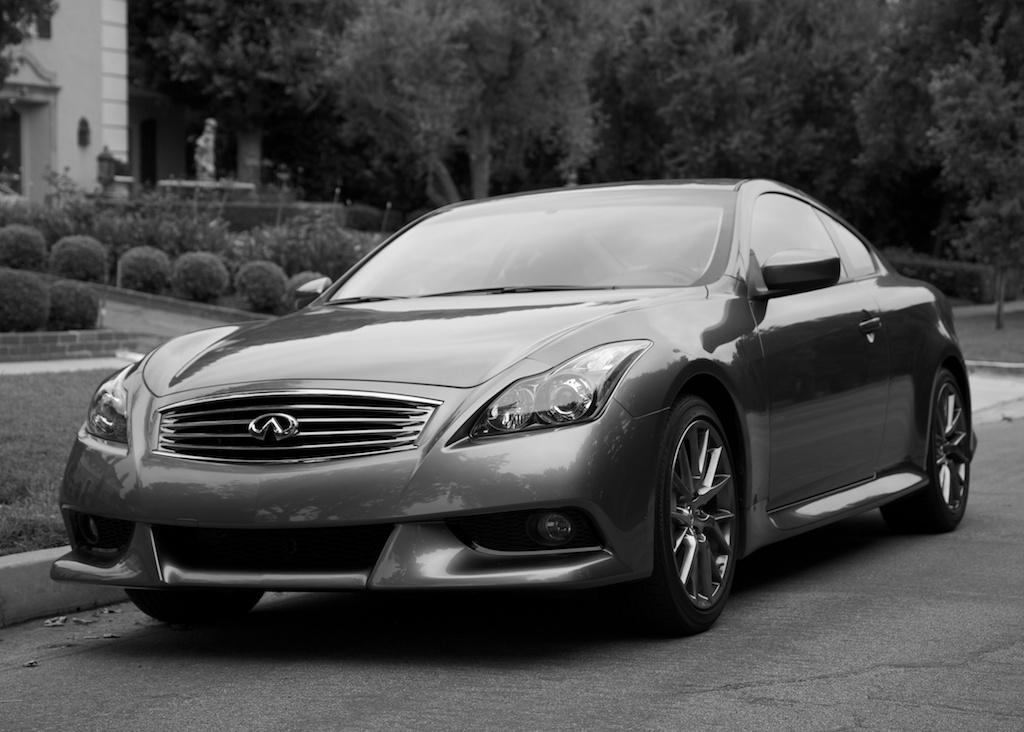car: (50, 177, 976, 632)
